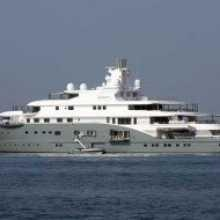yacht: (1, 58, 220, 158)
